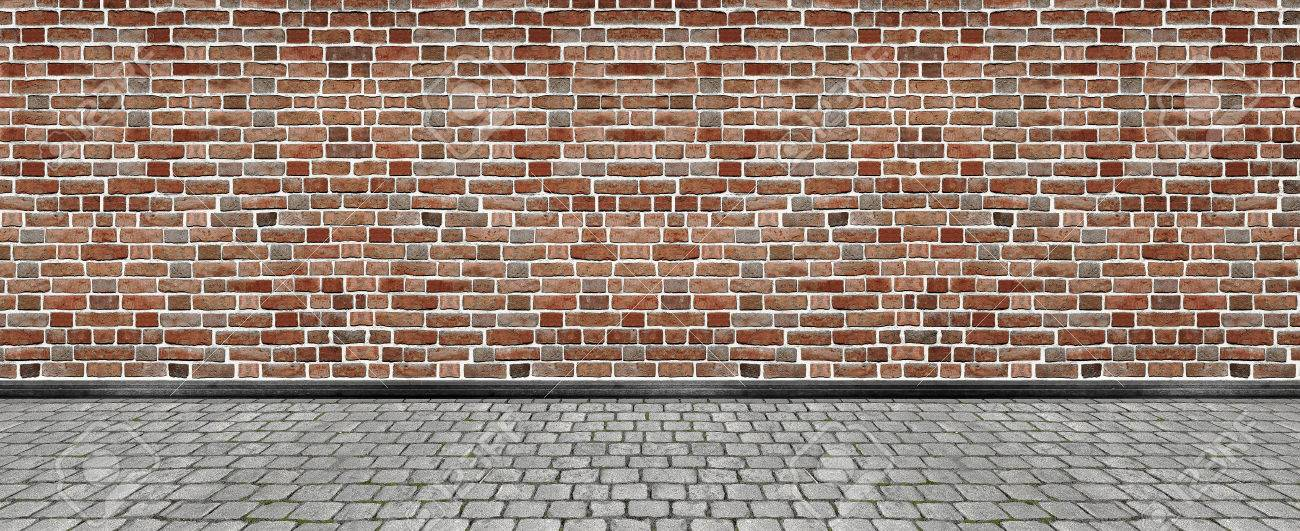Wall: (209, 9, 510, 378), (560, 14, 856, 376), (930, 12, 1221, 375)
